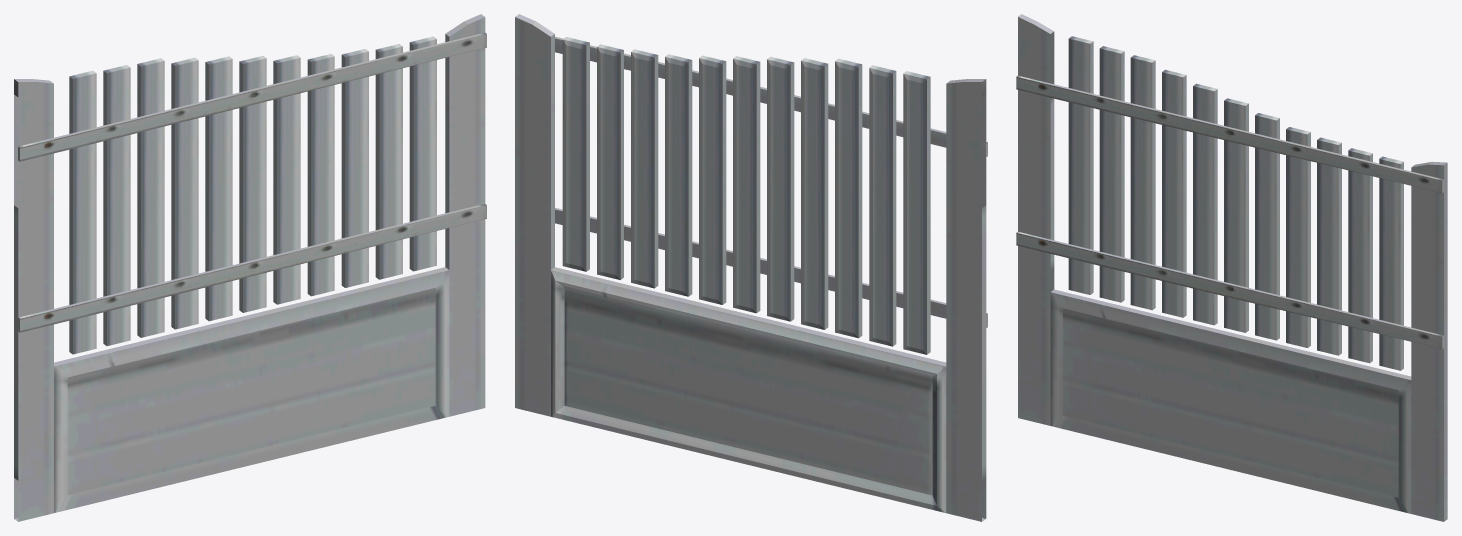
The model's file is plastic_gate_left.fbx.
3 renders of one model, left to right at view 1: azimuth 30°, elevation 25°; view 2: azimuth 150°, elevation 25°; view 3: azimuth 330°, elevation 25°, orthographic. The views are drawn at different scales.
Parts seen in each view (by area): view 1: plastic_gate_left; view 2: plastic_gate_left; view 3: plastic_gate_left.
Part boxes in pixels (box(x1,y1,x2,y2)): plastic_gate_left: box(14, 14, 486, 521); plastic_gate_left: box(515, 14, 987, 521); plastic_gate_left: box(1016, 14, 1447, 521).
Bounding box in the file's own units: 200 × 180 × 6.05.
Materials: 1 (1 with a texture image).
